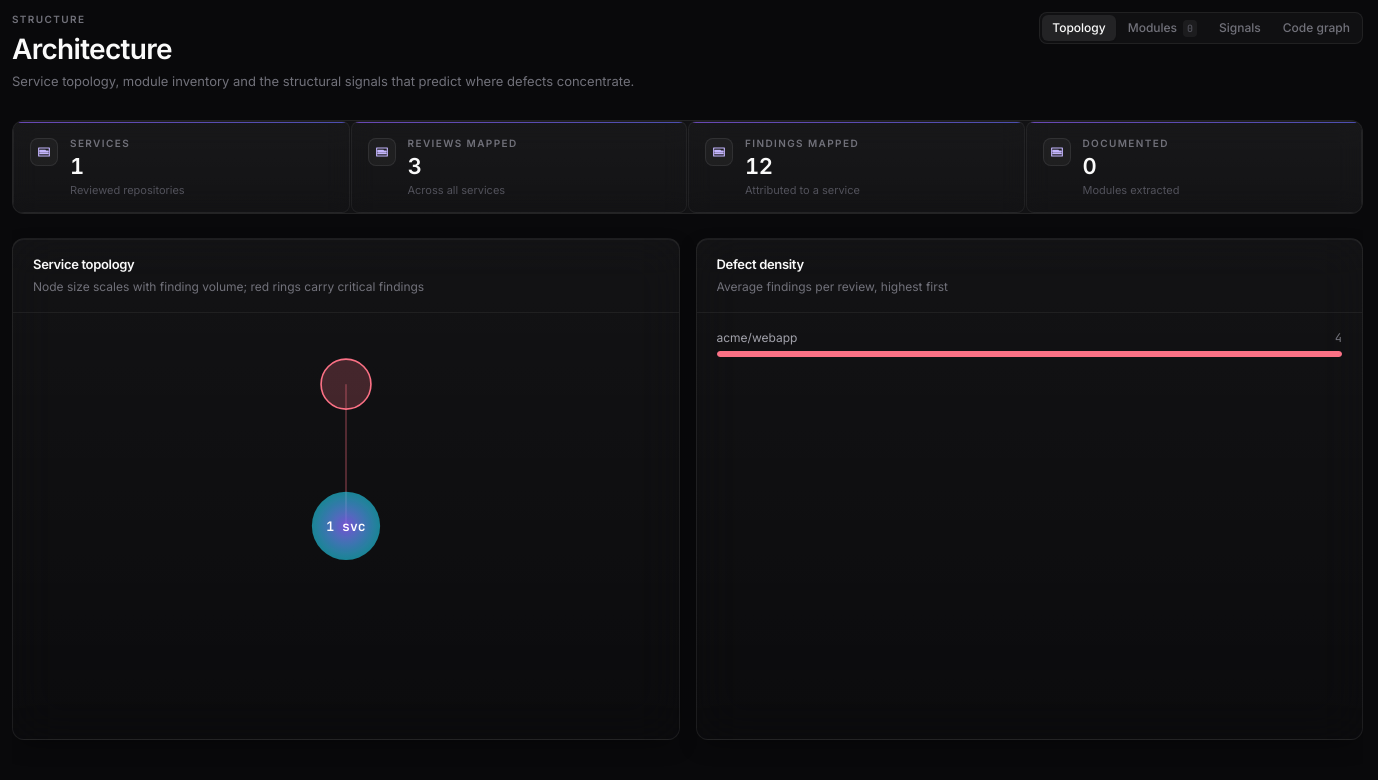
Test: ArchitecturePage › switches to the module inventory tab
Click the tab "Modules 0" at {"x": 1162, "y": 28}, box [1118,15,1207,41]
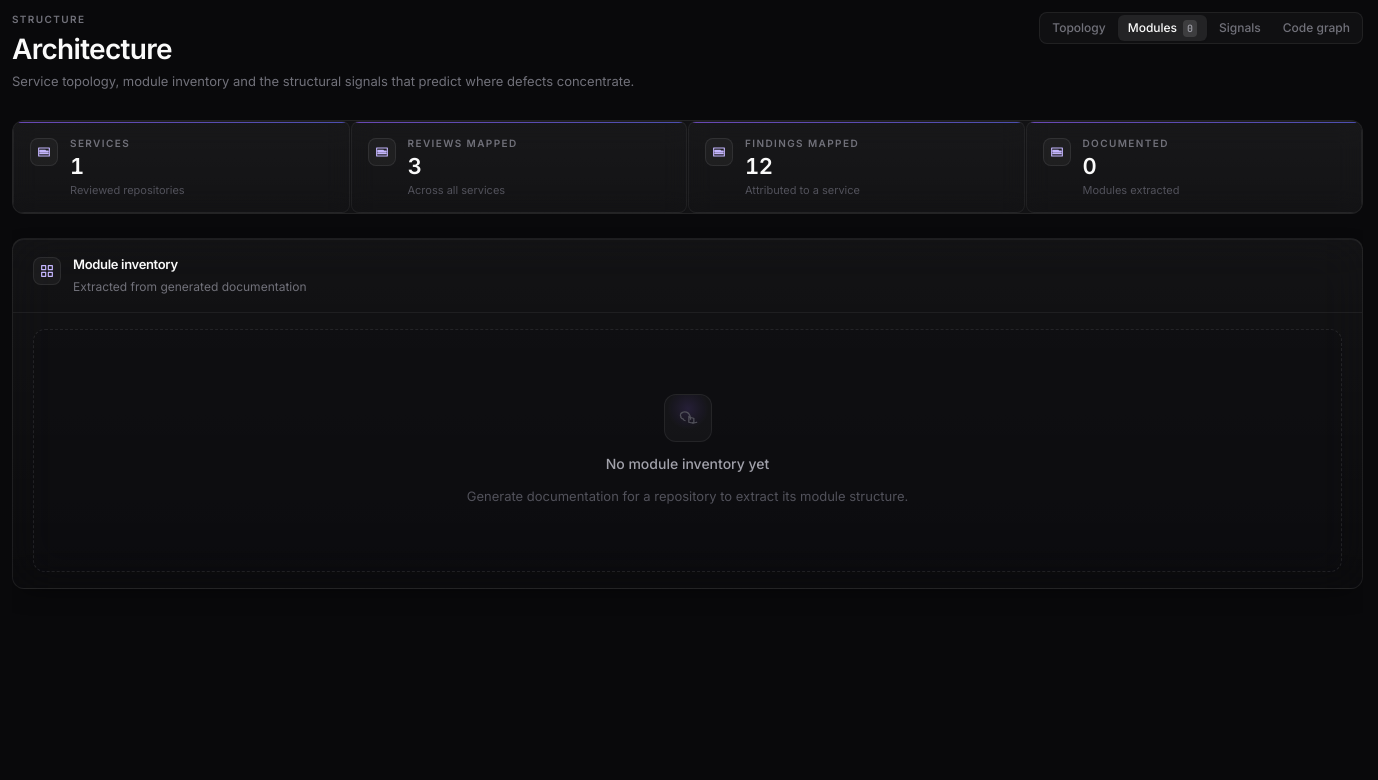
Check: the heading "Module inventory" is shown, box [73,256,178,272]
